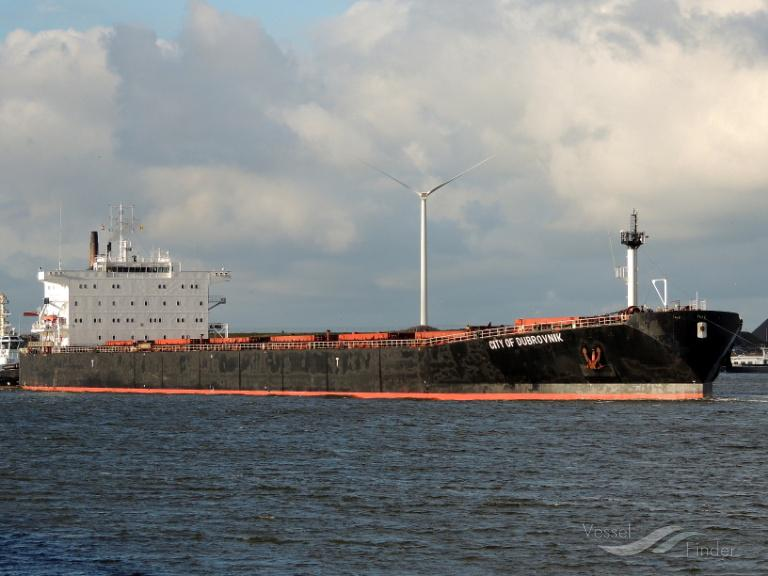OCR: (482, 330, 572, 352)
